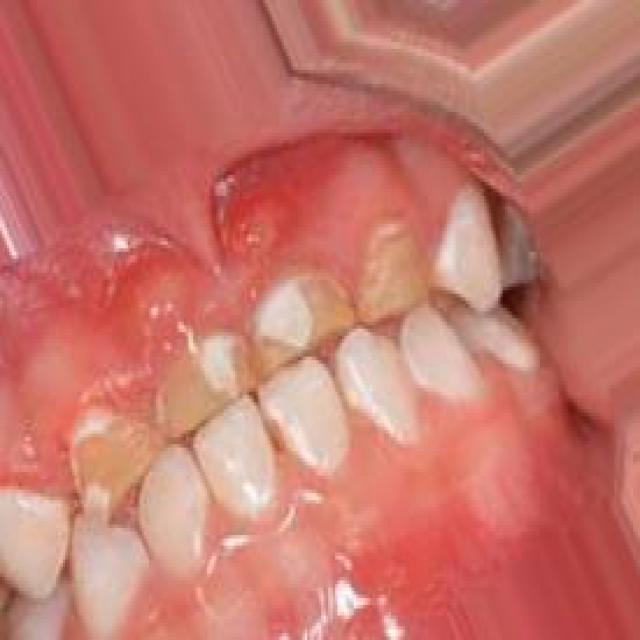caries: (247, 250, 356, 378), (156, 327, 256, 454), (62, 407, 154, 524), (353, 214, 434, 330)
